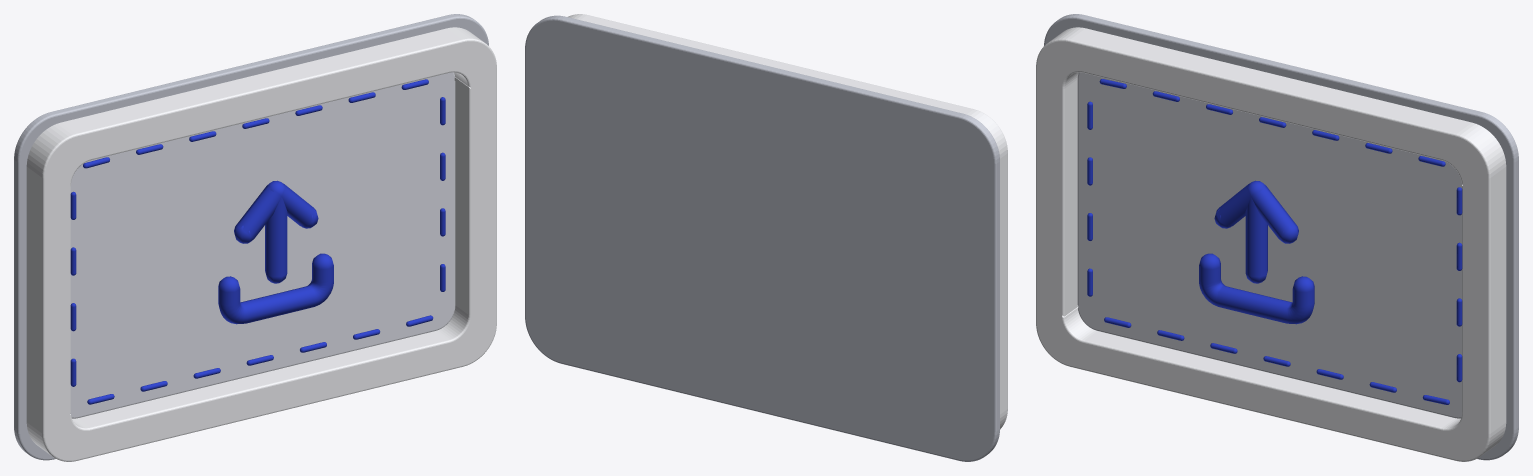
Rendered from rs_upload_tray.glb.
3 views of the same model, side by side, from view 1: azimuth 30°, elevation 25°; view 2: azimuth 150°, elevation 25°; view 3: azimuth 330°, elevation 25° (orthographic).
Visible parts, largest first — view 1: Floor, Walls, TrayBase, ArrowIcon; view 2: TrayBase, Walls; view 3: Floor, Walls, TrayBase, ArrowIcon.
Part boxes in pixels (x1,y1,x2,y2): Floor: [70, 72, 455, 418]; Walls: [26, 27, 496, 461]; TrayBase: [14, 14, 488, 460]; ArrowIcon: [218, 180, 333, 324]; TrayBase: [525, 15, 999, 461]; Walls: [568, 14, 1007, 429]; Floor: [1077, 72, 1462, 418]; Walls: [1036, 27, 1506, 461]; TrayBase: [1044, 14, 1518, 460]; ArrowIcon: [1199, 180, 1314, 324].
Bounding box in the file's own units: 3.32 × 2.32 × 0.4.
